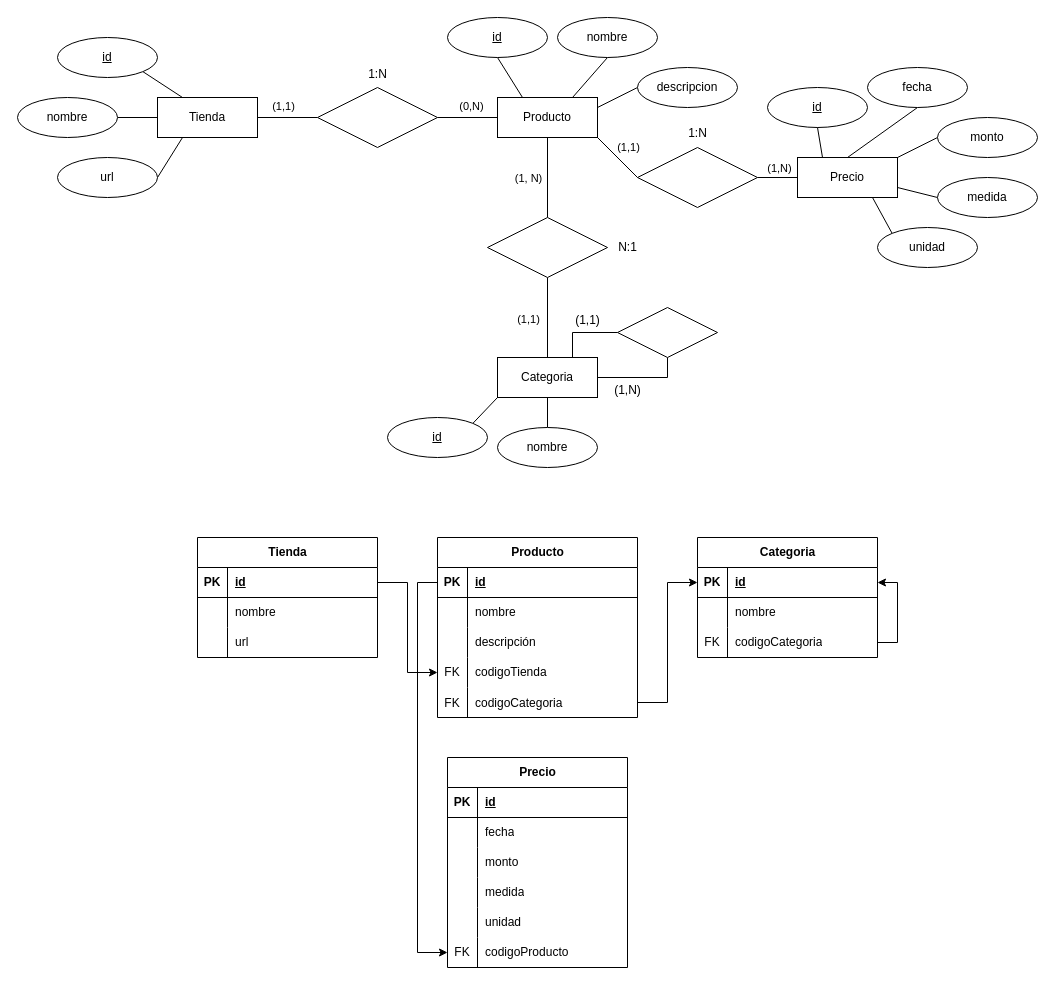
The diagram is 1055 pixels wide and 985 high, and some of its shapes have lost their labels. Here are the shapes that lost their labels. From the top down, the box of each, then its label:
(316, 86, 438, 148): Tiene
(636, 146, 758, 208): Asociado
(486, 216, 608, 278): Pertenece
(616, 306, 718, 358): subcategoria
